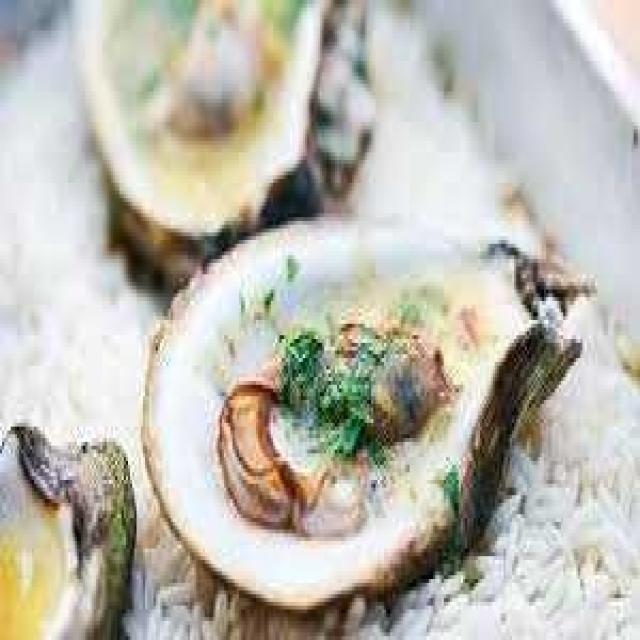Oyster-Open: (140, 208, 587, 618)
